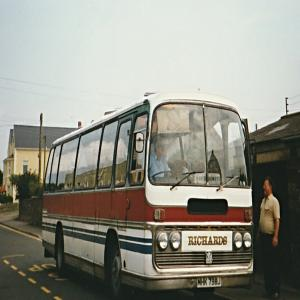Vehicle-registration-plate: (198, 276, 224, 289)
